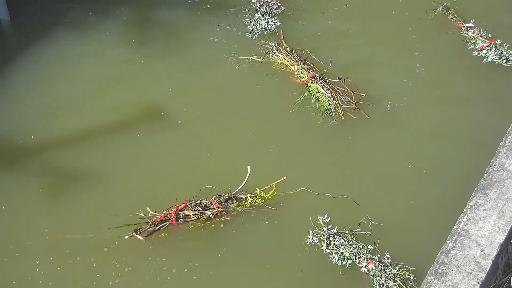twig: (240, 42, 381, 139), (407, 0, 512, 80), (244, 0, 295, 39)
